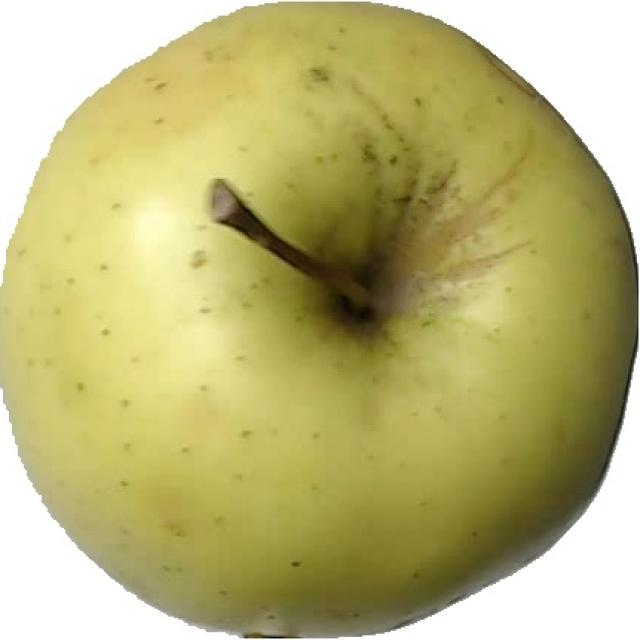Golden Elma: (4, 9, 631, 624)
